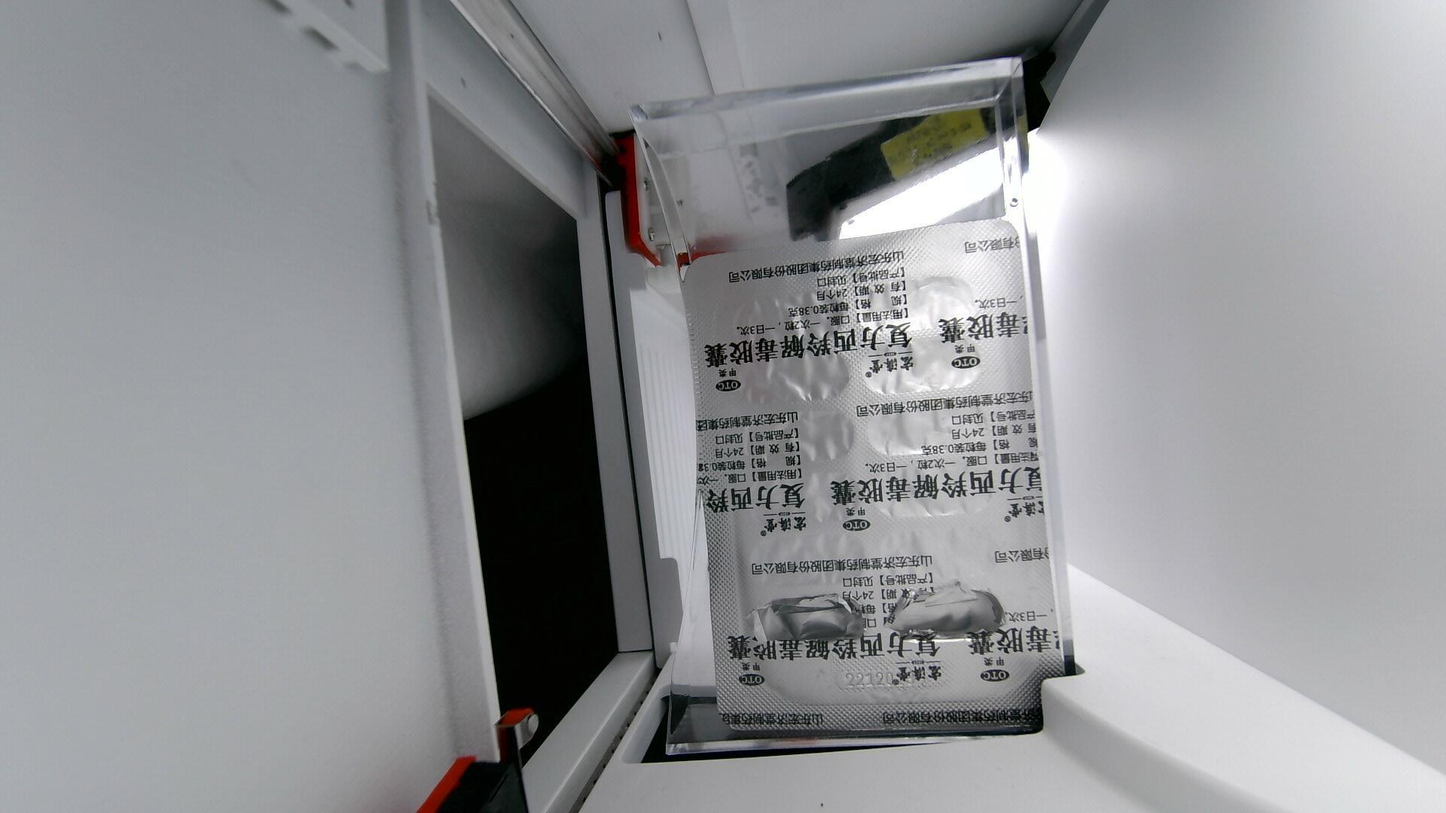No Pill Back: (883, 583, 1014, 643), (743, 598, 873, 643)
Pill Back: (863, 463, 1015, 511), (737, 411, 853, 473), (850, 276, 983, 329), (881, 524, 1018, 575), (730, 346, 856, 400), (727, 285, 844, 338), (754, 528, 870, 581), (863, 400, 990, 447), (865, 346, 986, 394), (746, 486, 866, 525)
